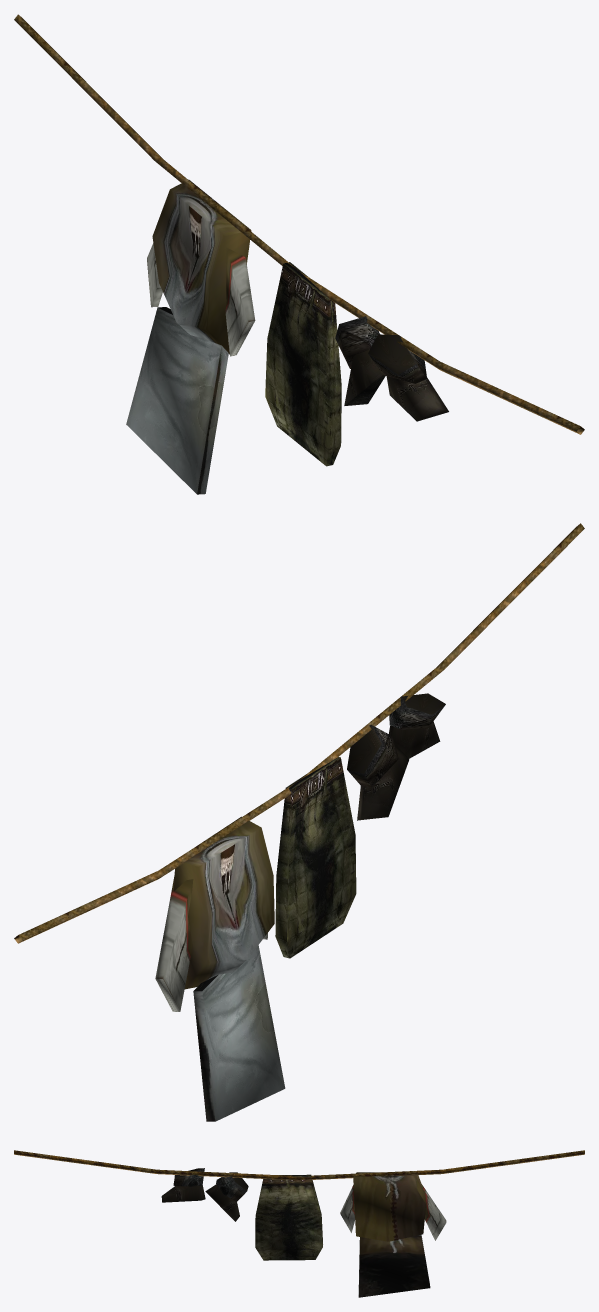
File: KM_VOB_CLOTHES_01.glb
3 renders of one model, top to bottom at view 1: azimuth 30°, elevation 25°; view 2: azimuth 150°, elevation 25°; view 3: azimuth 270°, elevation 25°, orthographic. The views are drawn at different scales.
Visible parts, largest first — view 1: Mesh; view 2: Mesh; view 3: Mesh.
Part boxes in pixels (x1,y1,x2,y2): Mesh: [14, 14, 584, 494]; Mesh: [14, 523, 584, 1121]; Mesh: [14, 1150, 584, 1297].
Bounding box in the file's own units: 0.2522 × 1.19 × 3.95.
4 materials, 4 textured.
